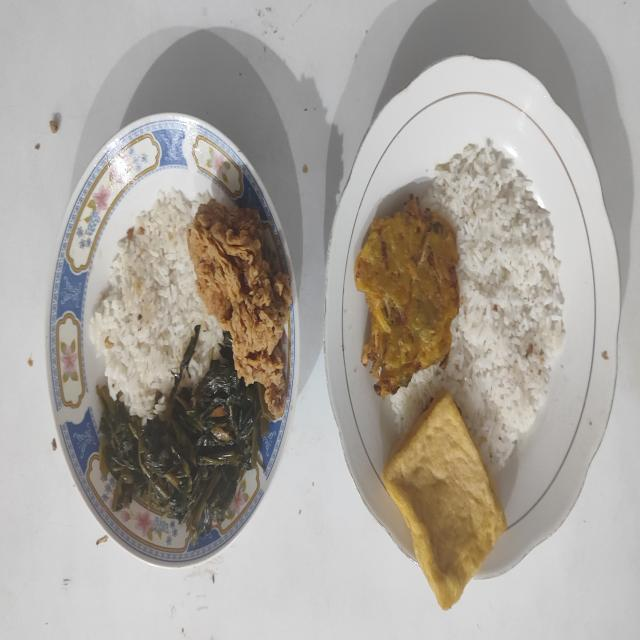nasi_putih: (384, 140, 565, 473), (90, 189, 222, 422)
tahu_goreng: (382, 392, 507, 610)
tumis_kangkung: (96, 332, 272, 543)
